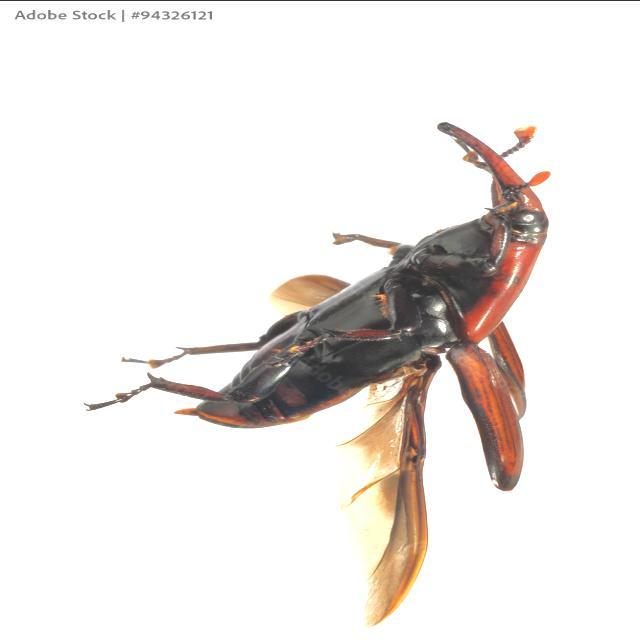Red-palm-weevil: (199, 116, 559, 580)
